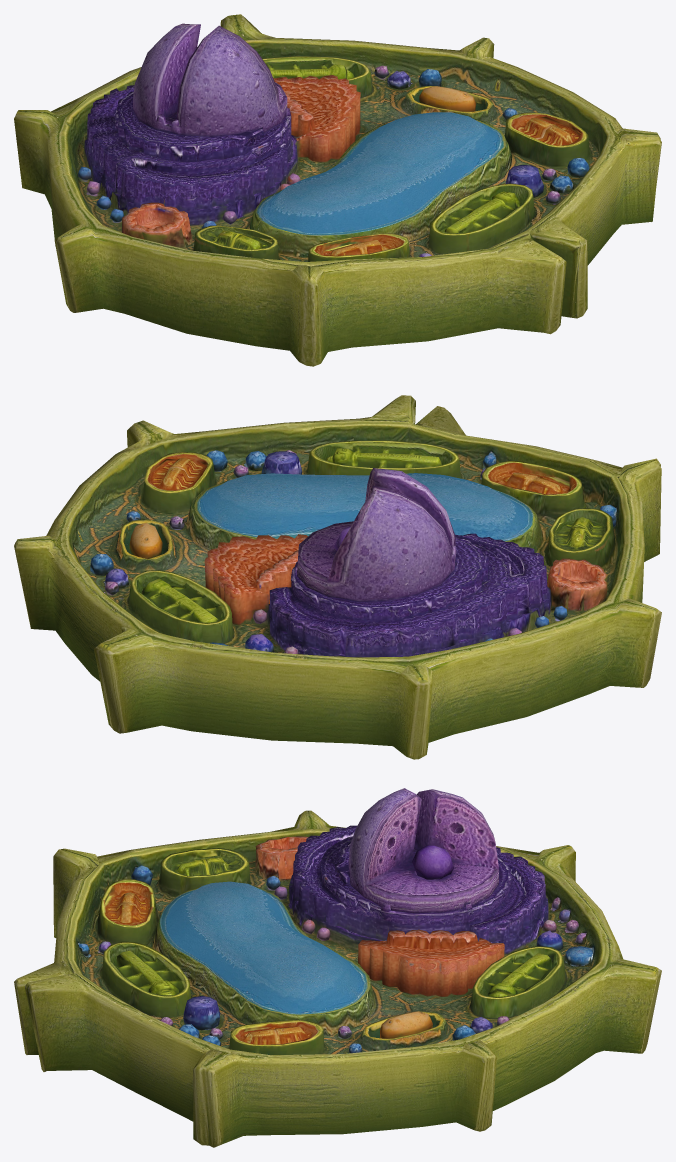
Rendered from plant-tripo.glb.
3 renders of one model, top to bottom at view 1: azimuth 30°, elevation 25°; view 2: azimuth 150°, elevation 25°; view 3: azimuth 270°, elevation 25°, orthographic. The views are drawn at different scales.
Parts seen in each view (by area): view 1: tripo_node_b64d0599-5339-410f-9849-c16b512d4316; view 2: tripo_node_b64d0599-5339-410f-9849-c16b512d4316; view 3: tripo_node_b64d0599-5339-410f-9849-c16b512d4316.
Boxes of the visible parts, x1,y1,x2,y2 form: tripo_node_b64d0599-5339-410f-9849-c16b512d4316: (14, 14, 661, 366); tripo_node_b64d0599-5339-410f-9849-c16b512d4316: (14, 395, 661, 759); tripo_node_b64d0599-5339-410f-9849-c16b512d4316: (14, 788, 661, 1147).
Bounding box in the file's own units: 1 × 0.3418 × 1.03.
1 material, 1 textured.
